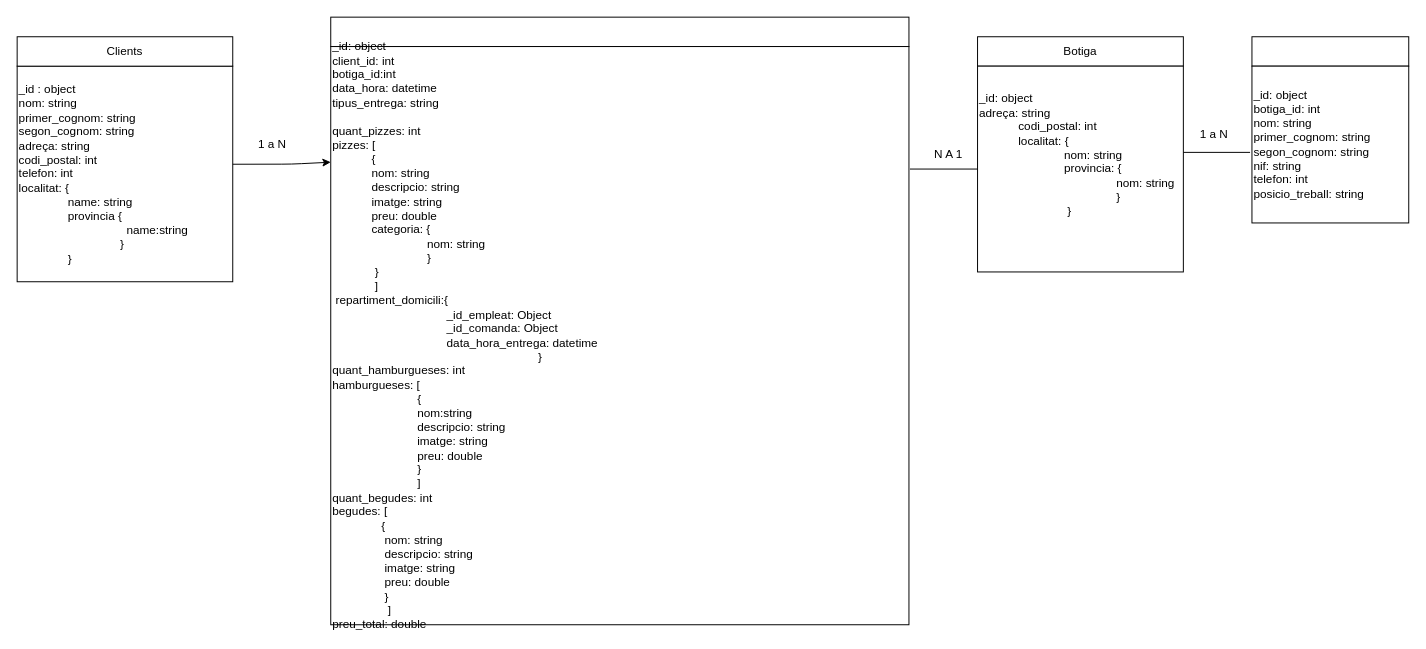
Some shapes in this 1426 by 649 pixel diagram are drawn without their labels. The shapes that lost their labels are listed below. From the top down, each one's centre as x and y in pixels, then its label:
At point 619,31: "Comandes".
At point 1330,51: "Empleats".
